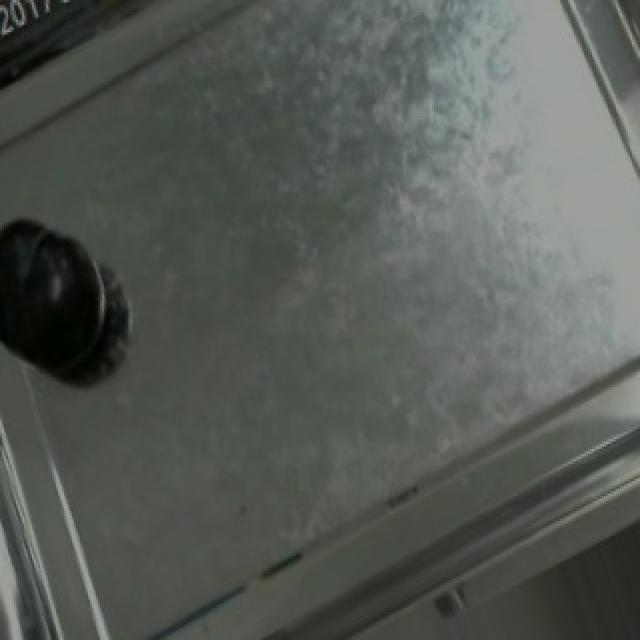Fruit: (0, 208, 122, 390)
